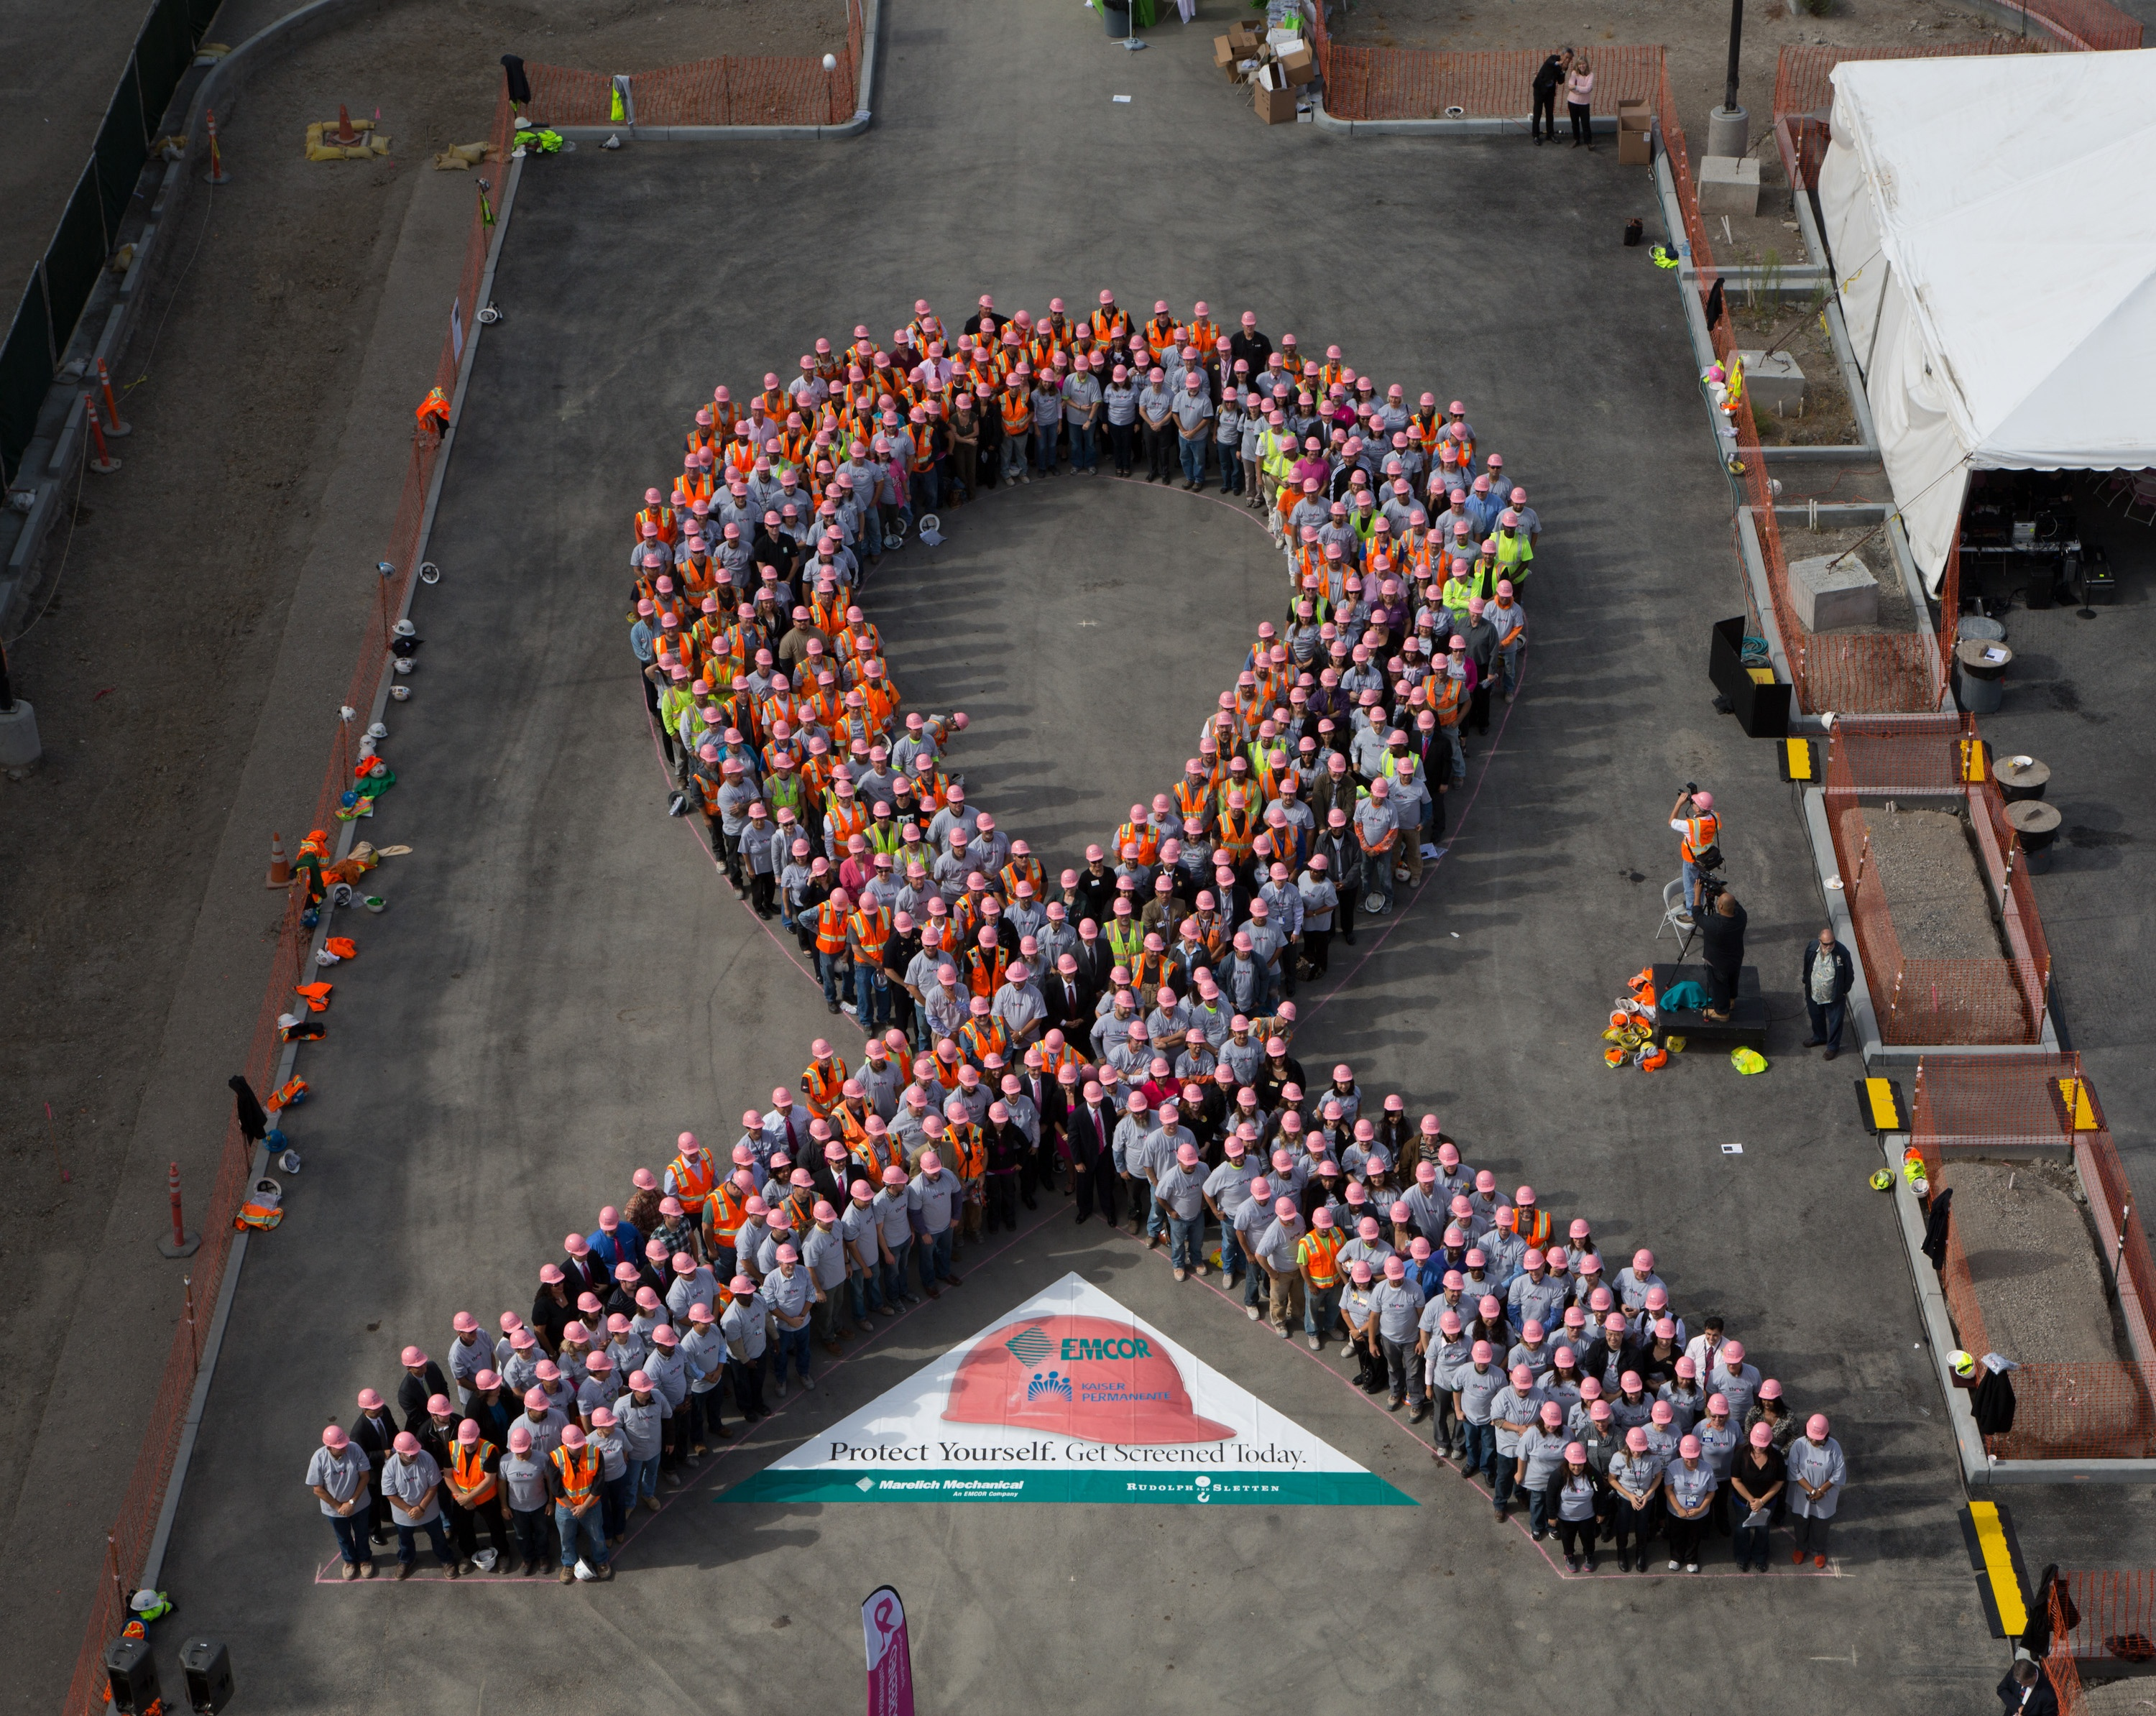none: (1699, 1315, 1723, 1347), (1813, 926, 1837, 954), (1713, 891, 1736, 914), (1559, 44, 1575, 67), (1575, 56, 1590, 75)
red: (321, 1424, 352, 1459), (354, 1387, 385, 1420), (392, 1429, 420, 1464), (1687, 788, 1716, 819), (532, 1357, 560, 1390), (650, 1324, 678, 1357), (1720, 1340, 1748, 1373), (452, 1308, 478, 1343), (1562, 1441, 1589, 1476), (1704, 1392, 1730, 1427), (1412, 1159, 1438, 1194), (559, 1422, 588, 1452), (399, 1345, 427, 1376), (475, 1366, 503, 1397), (522, 1389, 550, 1420), (585, 1348, 613, 1380), (625, 1368, 653, 1399), (729, 1275, 757, 1306), (1746, 1420, 1774, 1452), (1652, 1319, 1680, 1350), (1629, 1247, 1657, 1278), (1757, 1378, 1783, 1411), (1508, 1362, 1534, 1396), (1552, 1345, 1578, 1378), (1468, 1338, 1494, 1371), (1513, 1184, 1539, 1217), (1806, 1413, 1830, 1448), (1618, 1369, 1643, 1404), (1603, 1312, 1627, 1347), (1417, 1112, 1441, 1147), (538, 1262, 566, 1292), (564, 1233, 592, 1262), (727, 1170, 755, 1199), (1624, 1427, 1652, 1457), (671, 1250, 697, 1282), (674, 1131, 701, 1163), (813, 1199, 839, 1231), (1676, 1434, 1702, 1466), (1520, 1319, 1547, 1350), (1520, 1248, 1547, 1280), (1308, 1206, 1335, 1238), (1173, 1142, 1200, 1173), (967, 995, 993, 1026), (457, 1418, 482, 1452), (765, 1206, 790, 1240), (1643, 1285, 1667, 1319), (1589, 1287, 1613, 1320), (1438, 1310, 1462, 1343), (1380, 1093, 1405, 1126), (1436, 1142, 1461, 1175), (1275, 1110, 1303, 1138), (426, 1394, 452, 1424), (590, 1406, 617, 1436), (574, 1291, 601, 1320), (562, 1322, 588, 1352), (657, 1196, 683, 1226), (848, 1178, 874, 1208), (1476, 1296, 1503, 1326), (1448, 1194, 1475, 1224), (1440, 1227, 1466, 1257), (1342, 1180, 1368, 1210), (508, 1427, 532, 1459), (615, 1261, 639, 1292), (774, 1243, 799, 1275), (823, 1138, 848, 1170), (1562, 1306, 1587, 1338), (1440, 1269, 1464, 1301), (1568, 1217, 1592, 1248), (1473, 1168, 1497, 1199), (1356, 1215, 1380, 1247), (1222, 1135, 1247, 1166), (1124, 1019, 1149, 1051), (606, 1312, 632, 1340), (1543, 1247, 1569, 1275), (976, 926, 1002, 954), (720, 756, 746, 784), (634, 1285, 659, 1315), (632, 1166, 657, 1196), (688, 1303, 713, 1333), (744, 1194, 769, 1224), (741, 1108, 765, 1138), (809, 1038, 834, 1068), (862, 1114, 886, 1143), (918, 1150, 942, 1180), (911, 1058, 935, 1087), (863, 1038, 888, 1068), (946, 1101, 970, 1131), (1578, 1254, 1603, 1283), (1462, 1248, 1487, 1278), (1349, 1261, 1373, 1291), (1350, 1119, 1375, 1149), (1126, 1091, 1151, 1121), (1182, 1082, 1207, 1112), (1154, 986, 1179, 1016), (1005, 961, 1030, 991), (790, 1166, 813, 1198), (1650, 1399, 1673, 1431), (1589, 1399, 1611, 1431), (1364, 1156, 1387, 1187), (1315, 1159, 1338, 1191), (1249, 1175, 1272, 1206), (1331, 1063, 1354, 1094), (1023, 1047, 1046, 1079), (1235, 1086, 1258, 1117), (1142, 932, 1165, 963), (499, 1312, 524, 1340), (510, 1329, 534, 1357), (732, 1143, 757, 1171), (883, 1164, 907, 1192), (921, 1115, 946, 1143), (934, 1038, 958, 1066), (1382, 1255, 1406, 1283), (1273, 1196, 1298, 1224), (1270, 1150, 1294, 1178), (1212, 1063, 1237, 1091), (1182, 1026, 1207, 1054), (1054, 953, 1079, 981), (1385, 730, 1410, 758), (832, 779, 856, 807), (597, 1205, 620, 1234), (646, 1238, 669, 1268), (769, 1150, 792, 1180), (956, 1063, 979, 1093), (1492, 1205, 1515, 1234), (1408, 1236, 1431, 1266), (1387, 1199, 1410, 1229), (1280, 1080, 1303, 1110), (1158, 1103, 1180, 1133), (1112, 989, 1135, 1019), (1228, 1014, 1251, 1044), (1265, 1037, 1287, 1066), (891, 909, 914, 939), (809, 856, 832, 886), (1149, 1054, 1170, 1086), (841, 1080, 865, 1107), (881, 1028, 907, 1052), (856, 891, 881, 918), (771, 1087, 793, 1115), (809, 1117, 832, 1145), (986, 1101, 1009, 1129), (1321, 1100, 1343, 1128), (1233, 1122, 1256, 1150), (1042, 1026, 1065, 1054), (1275, 1000, 1298, 1028), (1231, 930, 1254, 958), (1247, 897, 1270, 925), (1077, 918, 1100, 946), (1009, 839, 1032, 867), (870, 851, 893, 879), (905, 1086, 927, 1115), (1000, 1073, 1021, 1103), (1305, 1129, 1326, 1159), (1112, 897, 1133, 926), (1182, 756, 1203, 786), (1326, 751, 1347, 781), (905, 860, 927, 890), (944, 784, 965, 814), (870, 800, 891, 830), (927, 897, 949, 923), (1044, 902, 1067, 928), (979, 897, 1002, 923), (974, 812, 997, 839), (1128, 804, 1151, 830), (1368, 777, 1391, 804), (828, 886, 851, 912), (904, 713, 927, 739), (795, 704, 818, 730), (806, 735, 828, 762), (659, 611, 681, 637), (844, 604, 867, 630), (729, 674, 751, 700), (1058, 1063, 1079, 1091), (1109, 965, 1130, 993), (1194, 890, 1215, 918), (935, 963, 956, 991), (1018, 935, 1039, 963), (1058, 867, 1079, 895), (1014, 879, 1035, 907), (967, 870, 988, 898), (948, 826, 969, 854), (900, 821, 921, 849), (869, 746, 890, 774), (753, 648, 774, 676), (1237, 669, 1256, 699), (1266, 809, 1289, 833), (1119, 842, 1142, 867), (844, 833, 867, 858), (948, 709, 970, 734), (771, 753, 793, 777), (1198, 981, 1219, 1007), (1179, 919, 1200, 946), (1308, 853, 1329, 879), (1326, 807, 1347, 833), (1084, 844, 1105, 870), (1158, 844, 1179, 870), (1296, 735, 1317, 762), (1270, 707, 1291, 734), (1315, 718, 1336, 744), (1429, 651, 1450, 678), (1466, 595, 1487, 622), (1450, 559, 1471, 585), (1354, 490, 1375, 517), (914, 753, 935, 779), (891, 776, 912, 802), (849, 737, 870, 763), (771, 720, 792, 746), (748, 802, 769, 828), (804, 637, 825, 664), (736, 601, 757, 627), (653, 574, 674, 601), (762, 510, 783, 536), (797, 354, 818, 380), (919, 315, 941, 341), (1098, 1063, 1117, 1091), (1279, 777, 1298, 805), (921, 926, 941, 954), (1154, 876, 1173, 904), (1214, 711, 1233, 739), (1252, 650, 1272, 678), (699, 741, 718, 769), (711, 634, 730, 662), (769, 674, 792, 697), (711, 567, 734, 590), (974, 294, 997, 317), (983, 1052, 1004, 1077), (1191, 967, 1212, 991), (1214, 865, 1235, 890), (1268, 862, 1289, 886), (1114, 874, 1135, 898), (1182, 818, 1203, 842), (1394, 758, 1415, 783), (1415, 709, 1436, 734), (1447, 634, 1468, 658), (1494, 580, 1515, 604), (1338, 441, 1359, 466), (862, 660, 883, 685), (814, 669, 835, 693), (722, 727, 743, 751), (814, 538, 835, 562), (729, 482, 750, 506), (846, 440, 867, 464), (853, 338, 874, 362), (870, 348, 891, 373), (890, 327, 911, 352), (925, 376, 946, 401), (977, 317, 998, 341), (1012, 308, 1033, 333), (1082, 1080, 1102, 1107), (1151, 793, 1170, 819), (1198, 737, 1217, 763), (1258, 720, 1277, 746), (1319, 667, 1338, 693), (1294, 599, 1314, 625), (1359, 686, 1378, 713), (1368, 706, 1387, 732), (1424, 583, 1443, 609), (1328, 499, 1347, 525), (1406, 508, 1426, 534), (1366, 411, 1385, 438), (790, 837, 809, 863), (844, 690, 863, 716), (702, 706, 722, 732), (855, 634, 874, 660), (681, 454, 701, 480), (1251, 837, 1272, 860), (1478, 539, 1499, 562), (1483, 454, 1504, 476), (1354, 375, 1375, 397), (1322, 345, 1343, 368), (830, 763, 853, 784), (699, 597, 720, 620), (690, 499, 711, 522), (762, 438, 783, 461), (905, 364, 927, 387), (925, 341, 946, 364), (911, 296, 932, 319), (1004, 371, 1025, 394), (1191, 301, 1212, 324), (1228, 756, 1247, 781), (1226, 790, 1245, 814), (1266, 749, 1286, 774), (1217, 690, 1237, 714), (1268, 646, 1287, 671), (1401, 636, 1420, 660), (1361, 630, 1380, 655), (1378, 578, 1398, 602), (1415, 611, 1434, 636), (1324, 543, 1343, 567), (1508, 485, 1527, 510), (1448, 420, 1468, 445), (1417, 390, 1436, 415), (1301, 476, 1321, 501), (918, 793, 937, 818), (776, 807, 795, 832), (690, 679, 709, 704), (671, 664, 690, 688), (638, 599, 657, 623), (792, 606, 811, 630), (639, 520, 659, 545), (818, 499, 837, 524), (823, 482, 842, 506), (778, 469, 797, 494), (762, 373, 781, 397), (949, 361, 969, 385), (1047, 296, 1067, 320), (1110, 362, 1130, 387), (1147, 364, 1166, 389), (1182, 371, 1201, 396), (1214, 334, 1233, 359), (1231, 357, 1251, 382), (1258, 620, 1275, 646), (1329, 639, 1347, 665), (1333, 608, 1350, 634), (1350, 643, 1368, 669), (785, 411, 802, 438), (814, 429, 832, 455), (818, 578, 834, 606), (876, 394, 897, 415), (972, 382, 993, 403), (1033, 319, 1054, 340), (1210, 847, 1229, 870), (1296, 672, 1315, 695), (1343, 578, 1363, 601), (1408, 686, 1427, 709), (1412, 562, 1431, 585), (1371, 553, 1391, 576), (1300, 525, 1319, 548), (1371, 517, 1391, 539), (1424, 529, 1443, 552), (1452, 520, 1471, 543), (1427, 476, 1447, 499), (1347, 469, 1366, 492), (1438, 447, 1457, 469), (1447, 399, 1466, 422), (1303, 436, 1322, 459), (1294, 392, 1314, 415), (818, 562, 837, 585), (641, 553, 660, 576), (643, 487, 662, 510), (687, 538, 706, 560), (722, 522, 741, 545), (825, 524, 844, 546), (753, 457, 772, 480), (722, 466, 741, 489), (694, 410, 713, 433), (711, 385, 730, 408), (748, 397, 767, 420), (732, 418, 751, 441), (814, 461, 834, 483), (793, 390, 813, 413), (879, 410, 898, 433), (907, 406, 927, 429), (953, 392, 972, 415), (972, 347, 991, 369), (1088, 350, 1107, 373), (1074, 322, 1093, 345), (1152, 299, 1172, 322), (1238, 310, 1258, 333), (1266, 352, 1286, 375), (1270, 383, 1289, 406), (1289, 688, 1307, 713), (1319, 622, 1336, 646), (1301, 574, 1319, 599), (1394, 678, 1412, 702), (1385, 655, 1403, 679), (1501, 510, 1518, 534), (1448, 489, 1466, 513), (1392, 478, 1410, 503), (1385, 459, 1403, 483), (1356, 401, 1373, 425), (1301, 361, 1319, 385), (657, 651, 674, 676), (757, 588, 774, 613), (760, 564, 778, 588), (835, 473, 853, 497), (814, 336, 832, 361), (828, 380, 846, 404), (956, 333, 974, 357), (1172, 326, 1189, 350), (1180, 345, 1198, 369), (1221, 385, 1238, 410), (1280, 333, 1298, 357), (1244, 390, 1261, 415), (1338, 368, 1357, 389), (1279, 436, 1298, 457), (853, 396, 872, 417), (1002, 331, 1021, 352), (1370, 609, 1387, 632), (1473, 476, 1490, 499), (1391, 431, 1408, 454), (1405, 425, 1422, 448), (1286, 468, 1303, 490), (1317, 399, 1335, 422), (1328, 382, 1345, 404), (683, 518, 701, 541), (695, 445, 713, 468), (1098, 289, 1116, 312), (1109, 326, 1126, 348), (1258, 397, 1275, 420), (1268, 410, 1286, 433), (851, 326, 870, 345), (1331, 427, 1349, 448), (669, 490, 687, 511), (781, 504, 799, 525), (821, 417, 839, 438), (1133, 350, 1151, 371), (1387, 382, 1403, 404), (874, 438, 890, 461), (923, 399, 939, 422), (1039, 366, 1054, 389), (1128, 334, 1145, 354), (848, 366, 863, 387), (1051, 350, 1067, 371), (1074, 354, 1089, 375), (1016, 361, 1030, 383), (1347, 434, 1363, 454)
